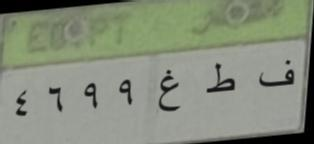4: (8, 86, 36, 123)
6: (45, 78, 67, 122)
9: (113, 72, 141, 117), (75, 76, 106, 116)
Taa: (201, 57, 239, 107)
faa: (252, 52, 300, 95)
ghayn: (150, 67, 185, 125)
